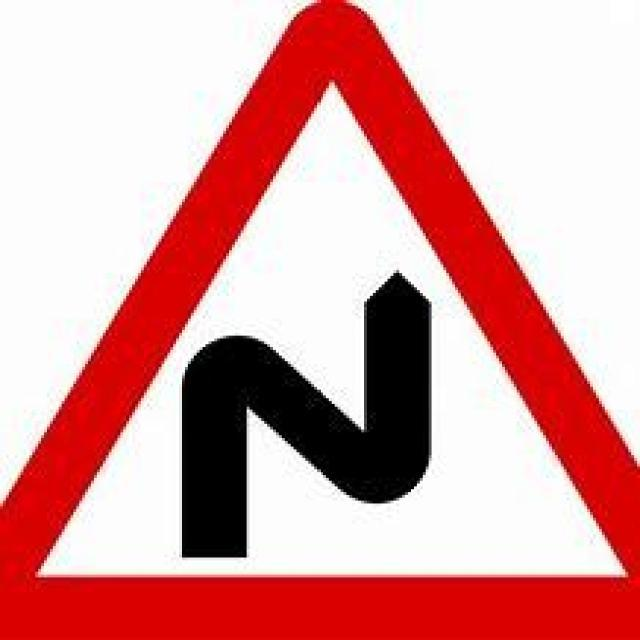right reverse bend: (22, 18, 611, 628)
